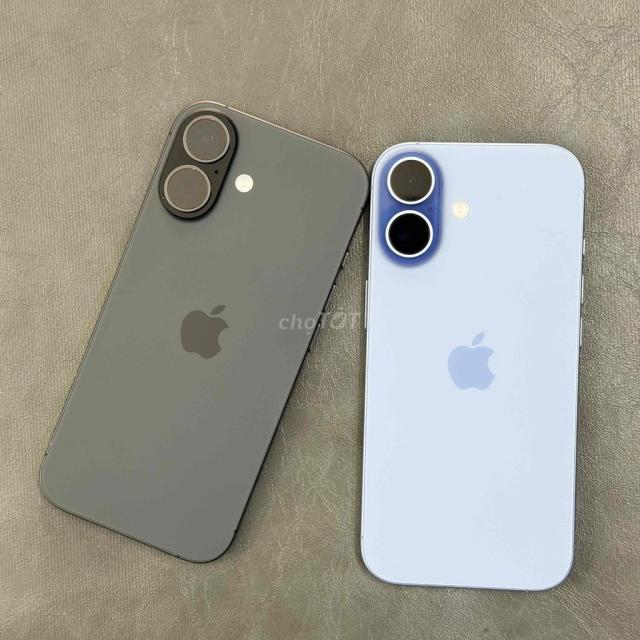gen_17: (40, 101, 368, 562), (369, 134, 587, 610), (164, 165, 210, 212), (356, 138, 369, 138)
